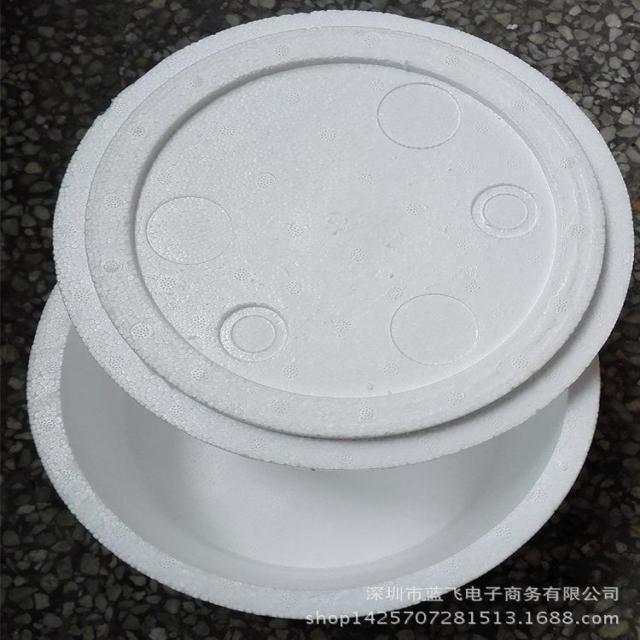styrofoam: (25, 8, 635, 620)
